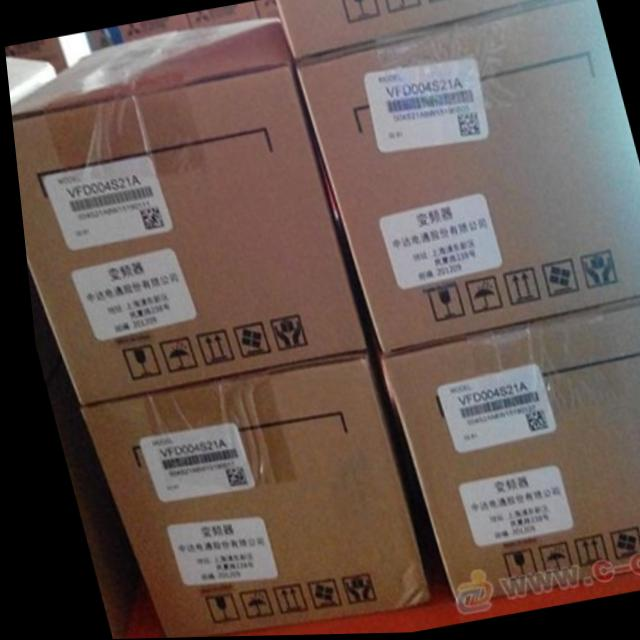box: (8, 17, 358, 407), (292, 0, 640, 357), (71, 353, 419, 638), (370, 299, 640, 610), (274, 0, 548, 62)
